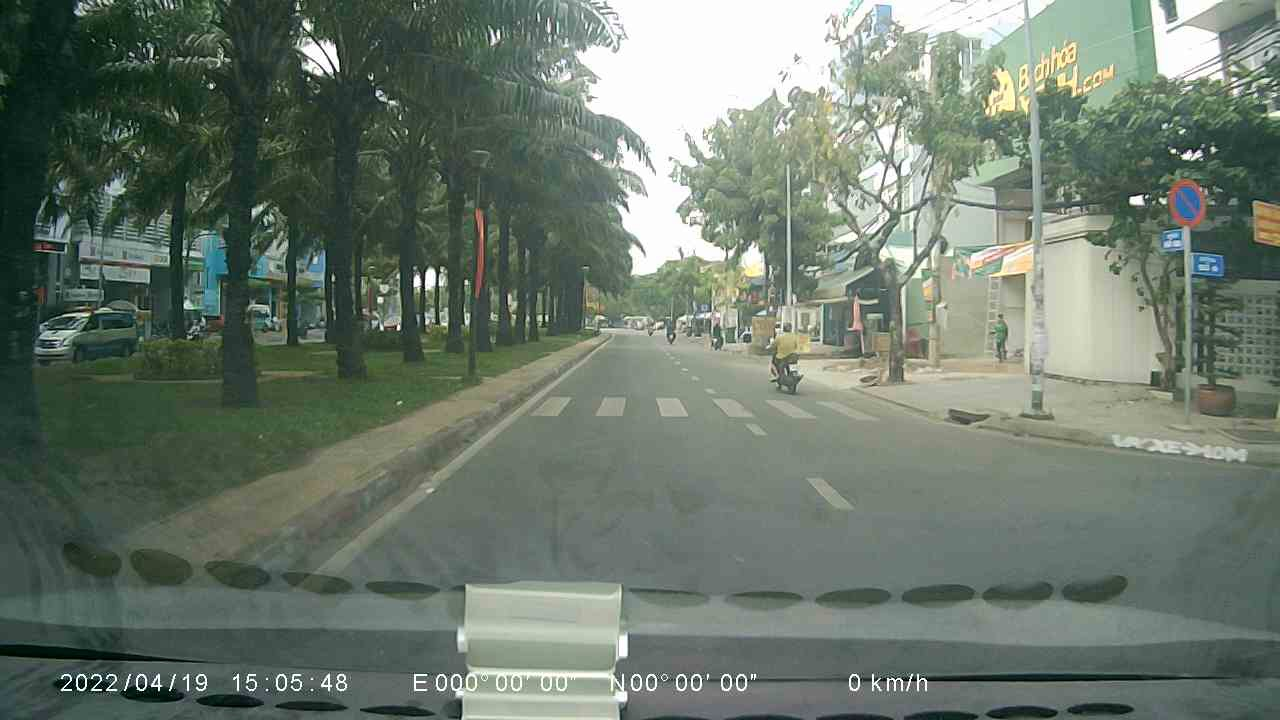Cam do xe: (1166, 178, 1206, 226)
